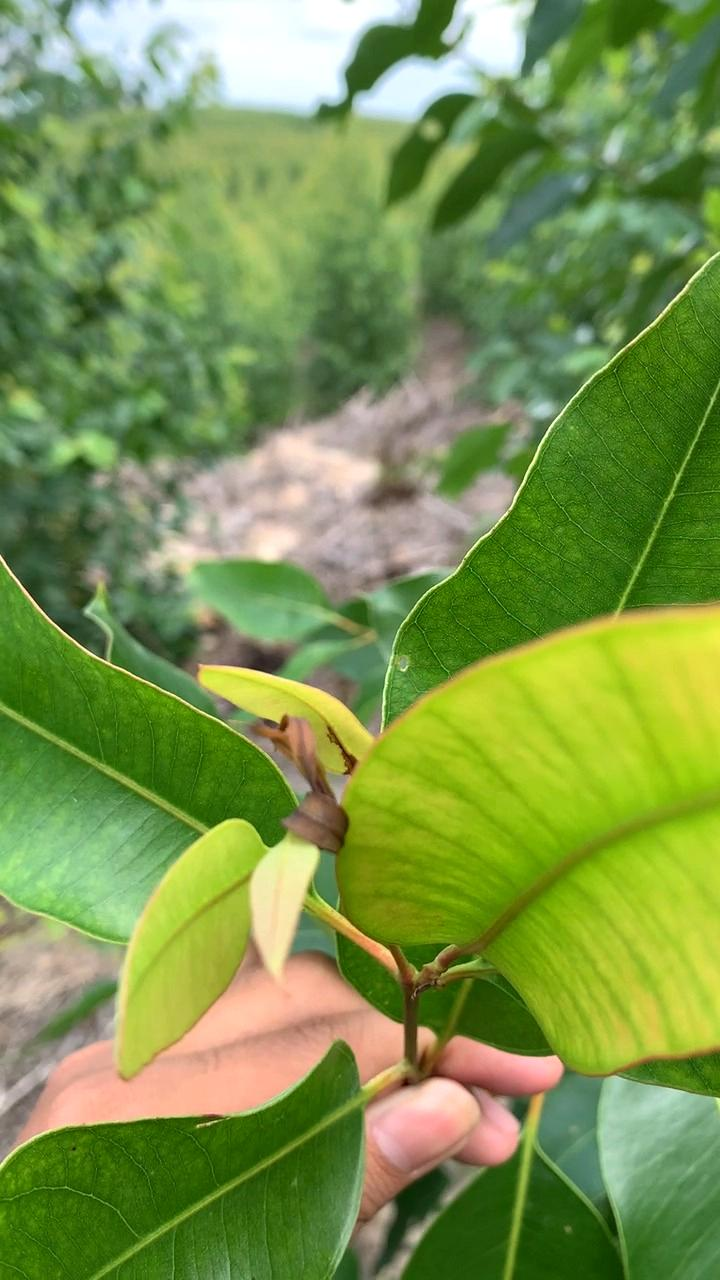Helopeltis-Withered Sprout: (245, 706, 365, 877)
